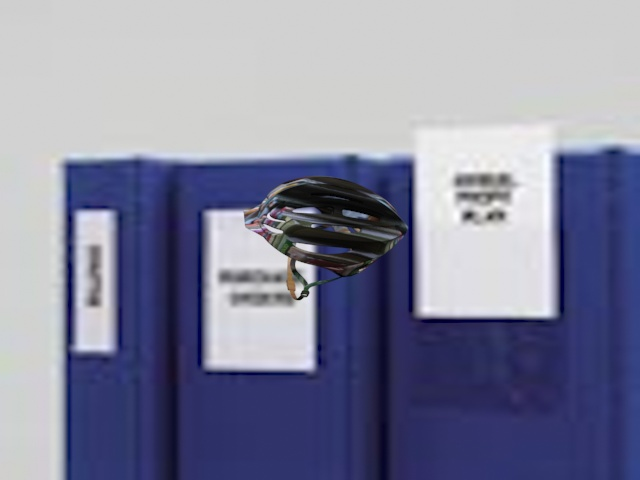bike_helmet: (240, 170, 417, 305)
